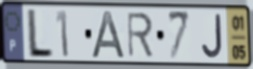1: (55, 8, 70, 59)
7: (167, 9, 191, 63)
A: (90, 9, 128, 60)
J: (200, 12, 224, 60)
L: (26, 7, 55, 60)
R: (126, 11, 156, 60)
